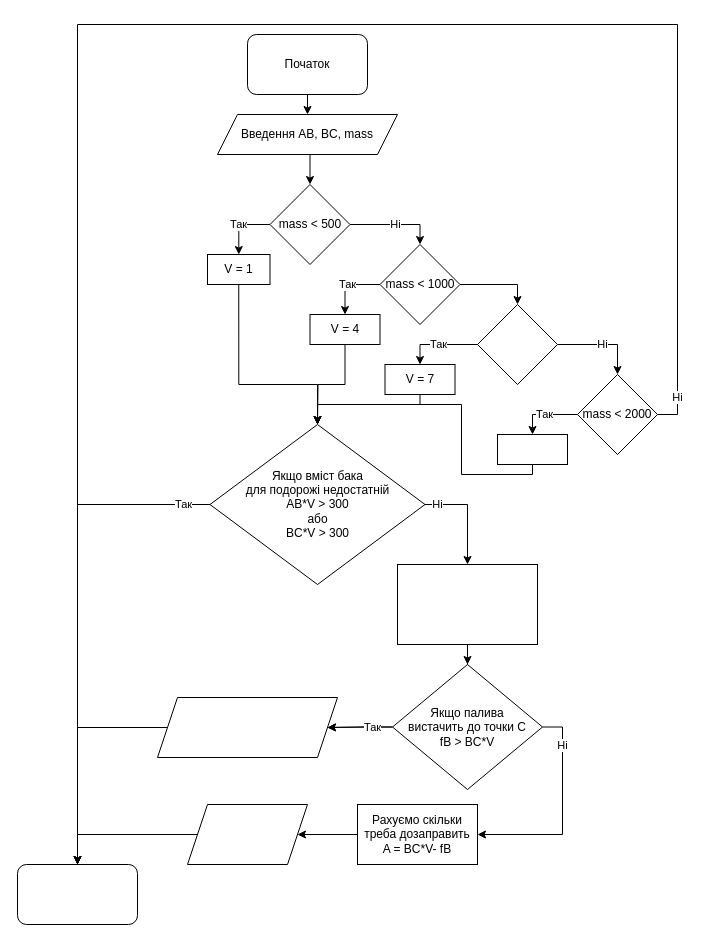
Some shapes in this 703 by 942 pixel diagram are drawn without their labels. Here are the shapes that lost their labels. From the top down, the box of each, then its label:
(476, 304, 558, 384): mass < 1500
(496, 434, 568, 464): V = 9
(396, 564, 538, 644): Рахуємо скільки палива залишиться в точці В (в момент дозаправки) fB=300-AB*V
(156, 696, 338, 758): Палива вистачить і без дозаправки. A = 0
(186, 804, 308, 864): Палива треба дозаправить A
(16, 864, 138, 924): Кінець
